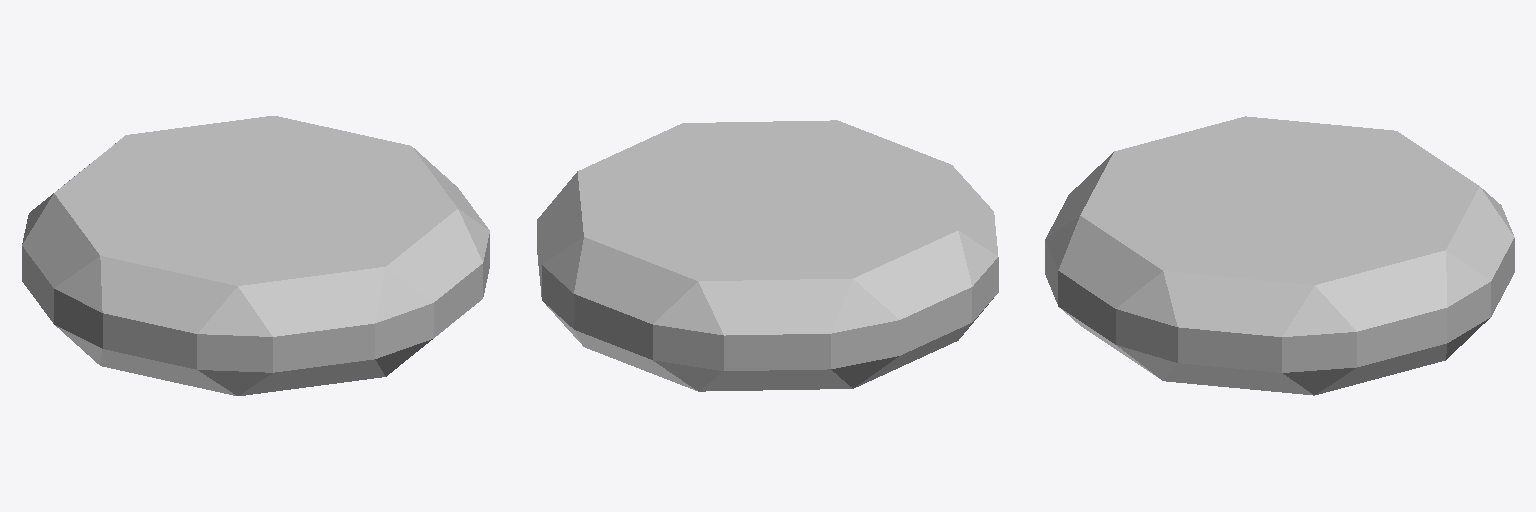
File: gem3.obj
The picture shows the model from 3 angles: view 1: azimuth 30°, elevation 25°; view 2: azimuth 150°, elevation 25°; view 3: azimuth 270°, elevation 25°; orthographic projection.
Visible parts, largest first — view 1: Gem5_Cylinder.001; view 2: Gem5_Cylinder.001; view 3: Gem5_Cylinder.001.
Boxes of the visible parts, <box> form: Gem5_Cylinder.001: <box>22,116,489,395</box>; Gem5_Cylinder.001: <box>537,120,998,391</box>; Gem5_Cylinder.001: <box>1045,116,1514,395</box>.
Bounding box in the file's own units: 0.233 × 0.0605 × 0.233.